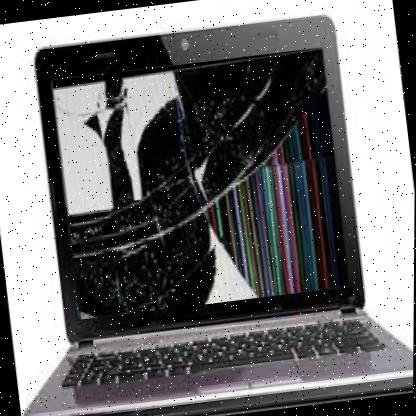crack: (49, 46, 350, 320)
lines: (256, 155, 349, 294)
